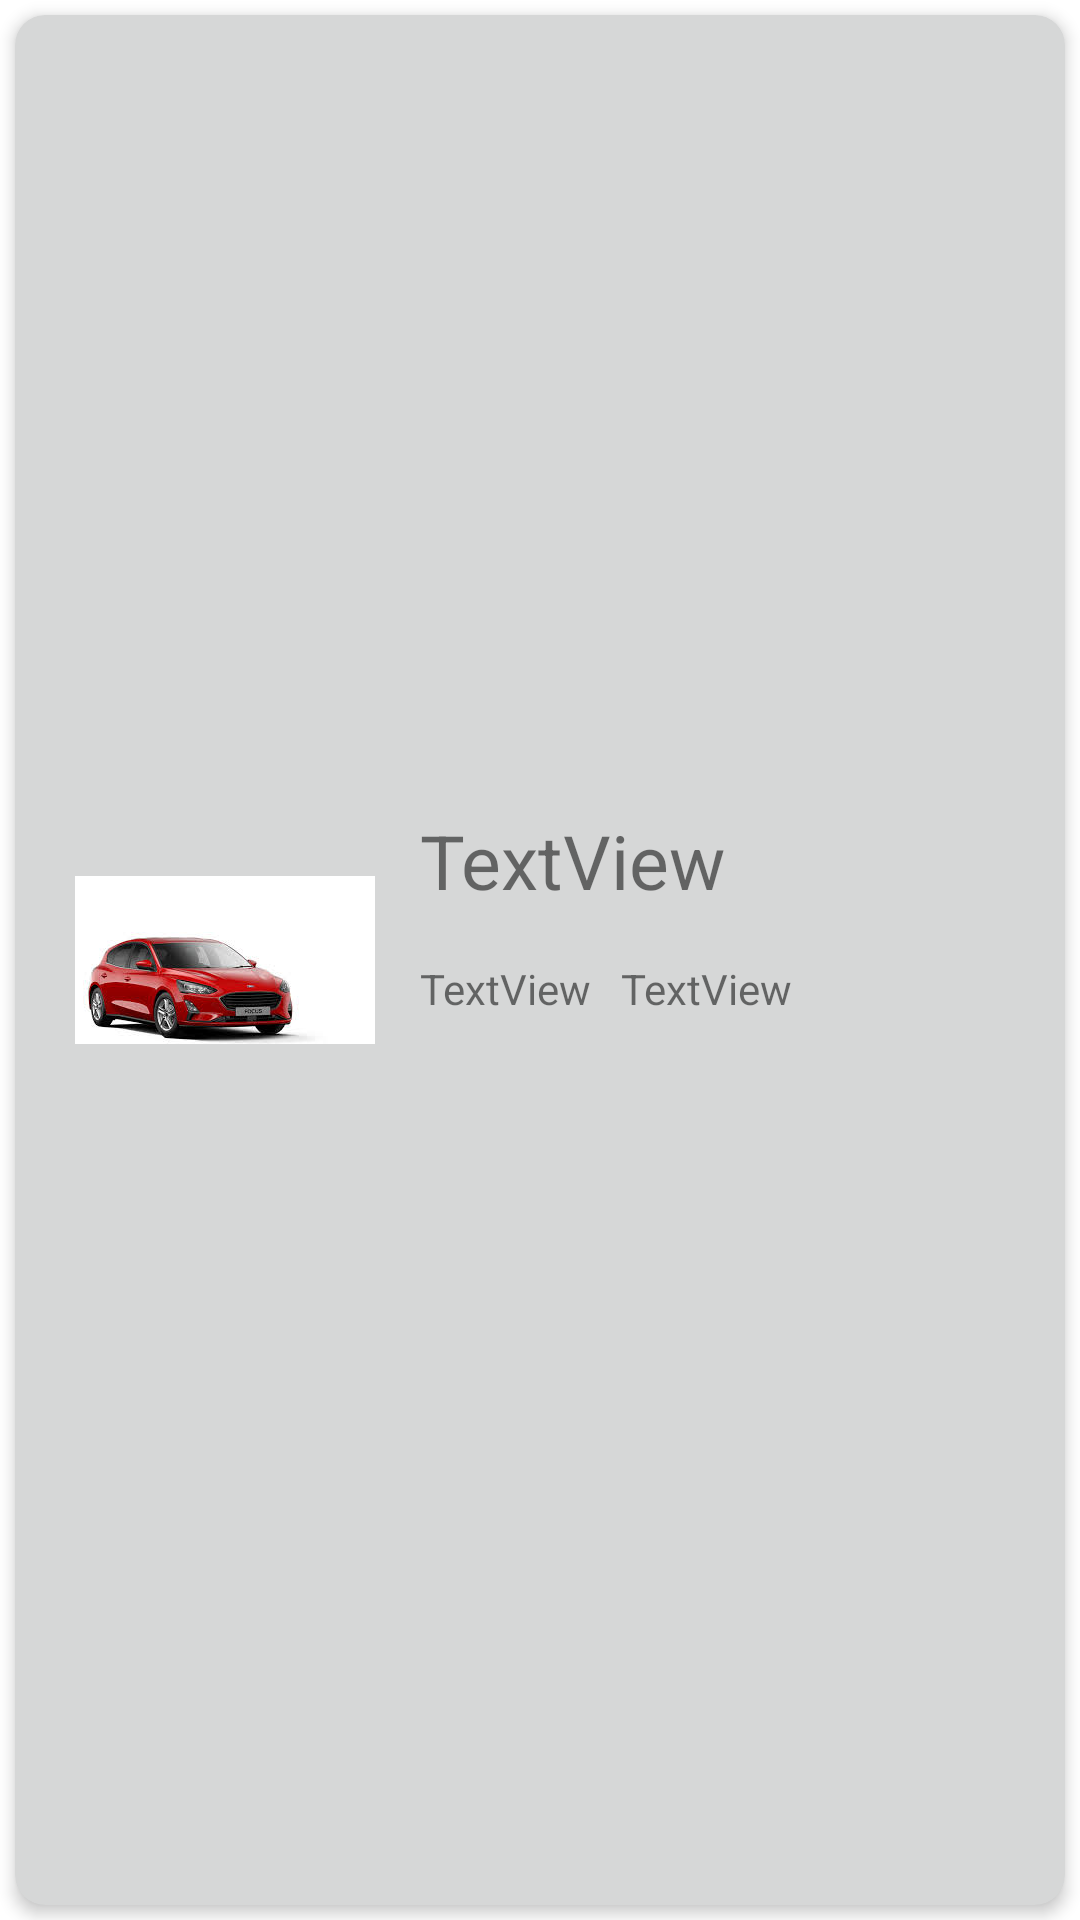

Where to tap for icons on this 1080×1920 app screen, as (x,y):
car: (225,960)
